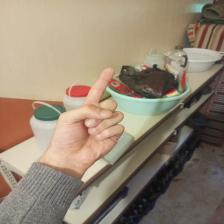one: (54, 68, 130, 162)
